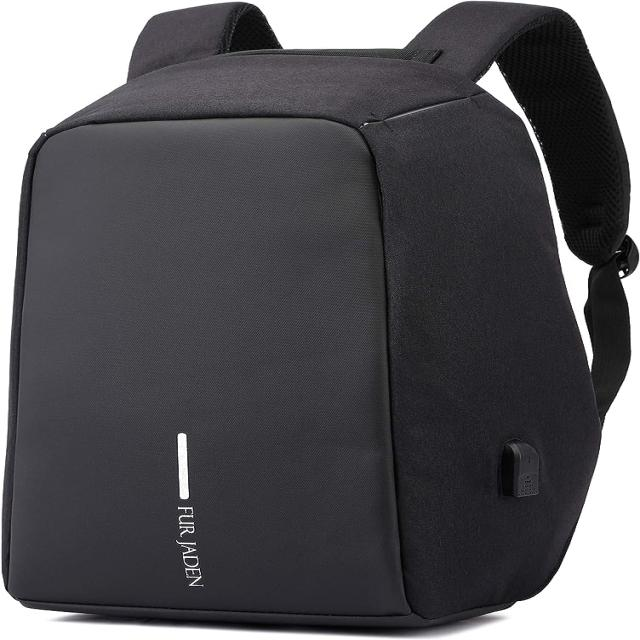backpack: (3, 2, 638, 630)
